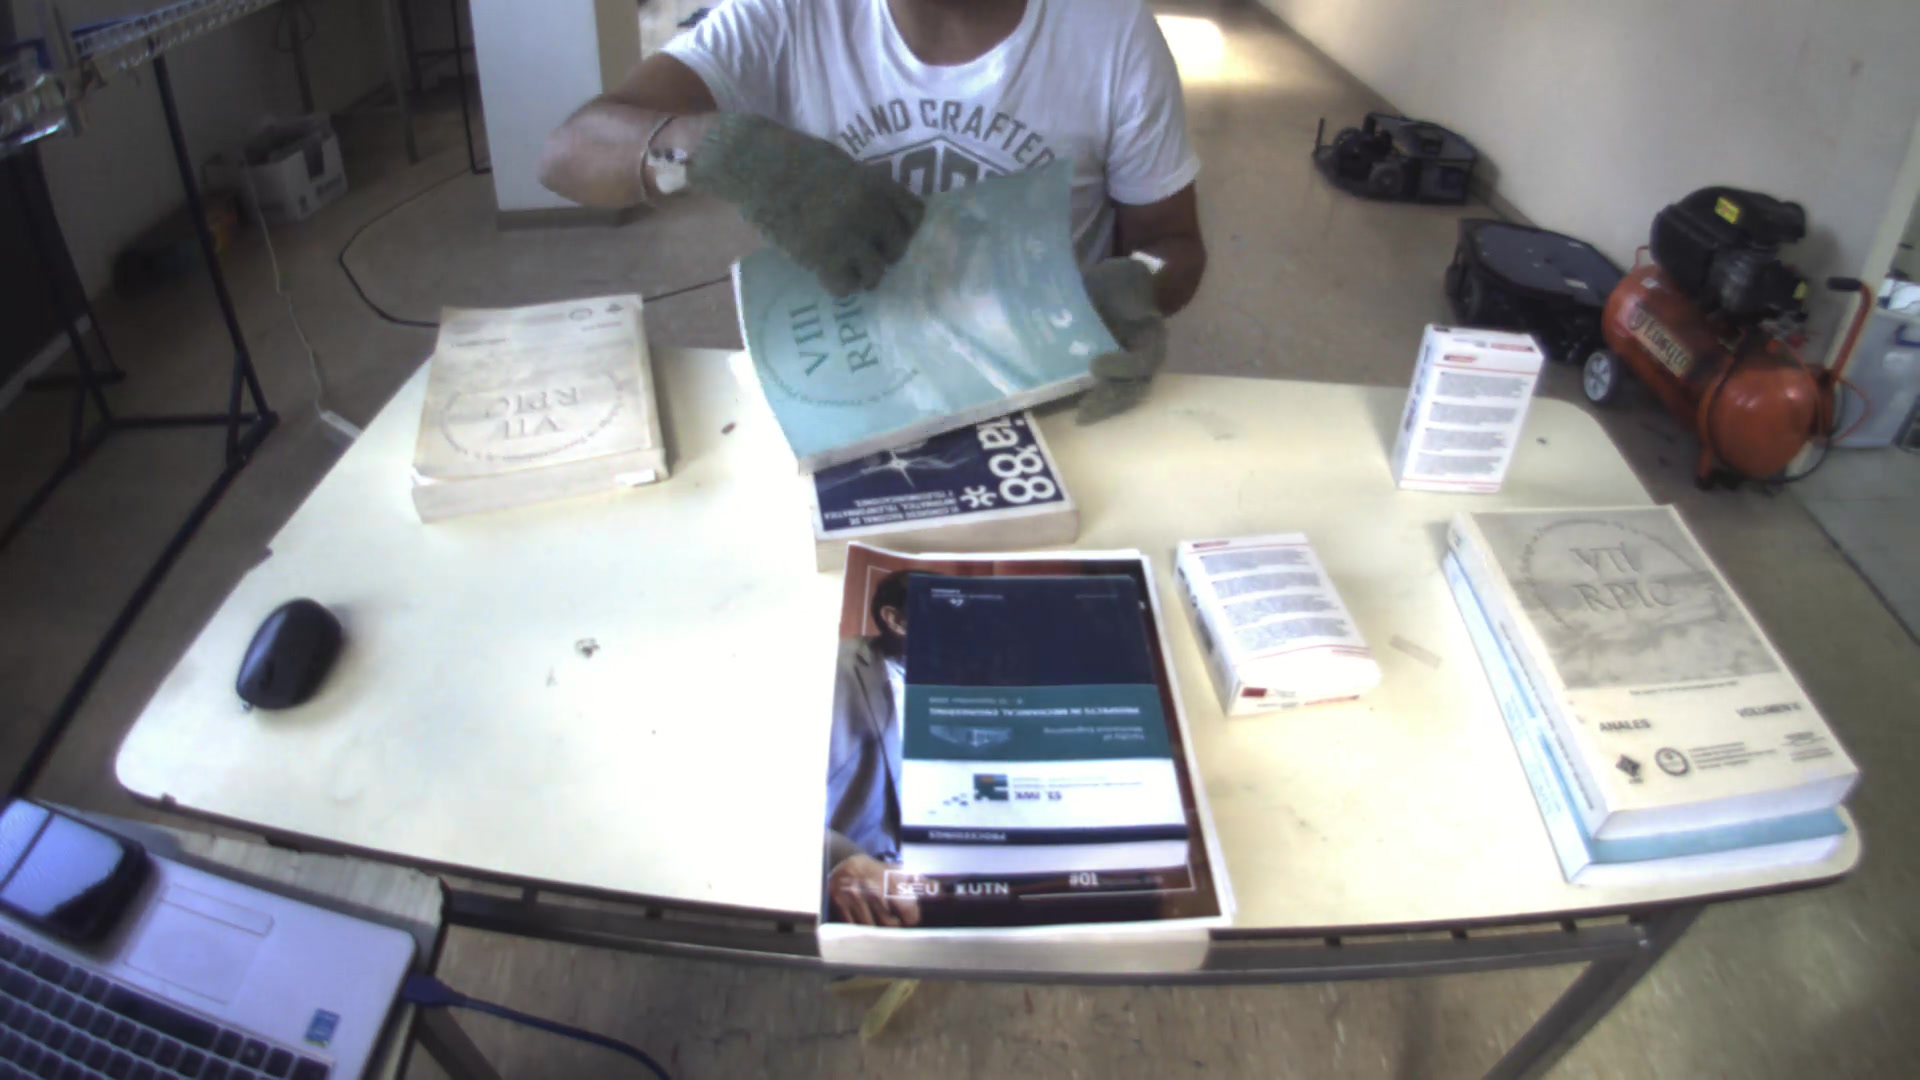hand: (676, 105, 923, 284), (1072, 252, 1168, 429)
